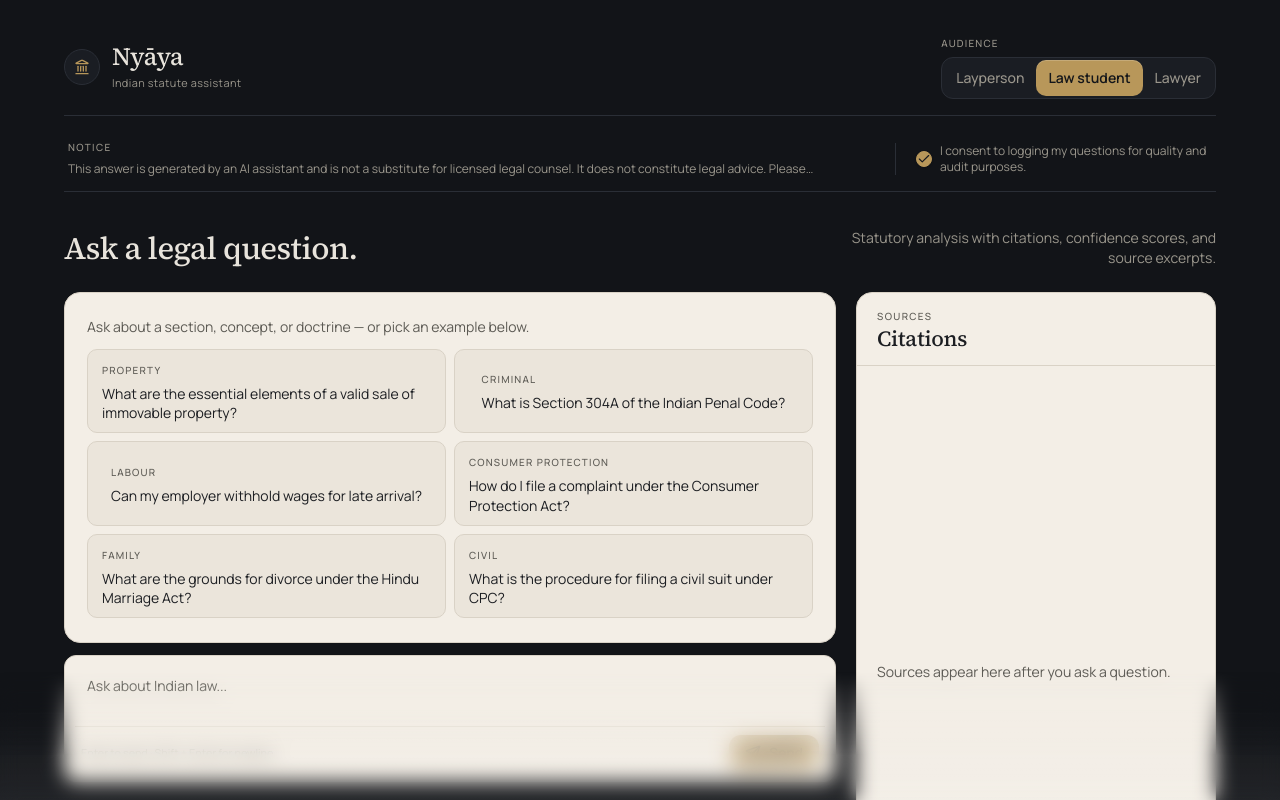
Test: ChatWindow user_type wiring › includes the selected user_type in the outgoing payload
Type "Explain Section 302 IPC." into the text box named "Your message" at (450, 694), box [75,666,825,722]
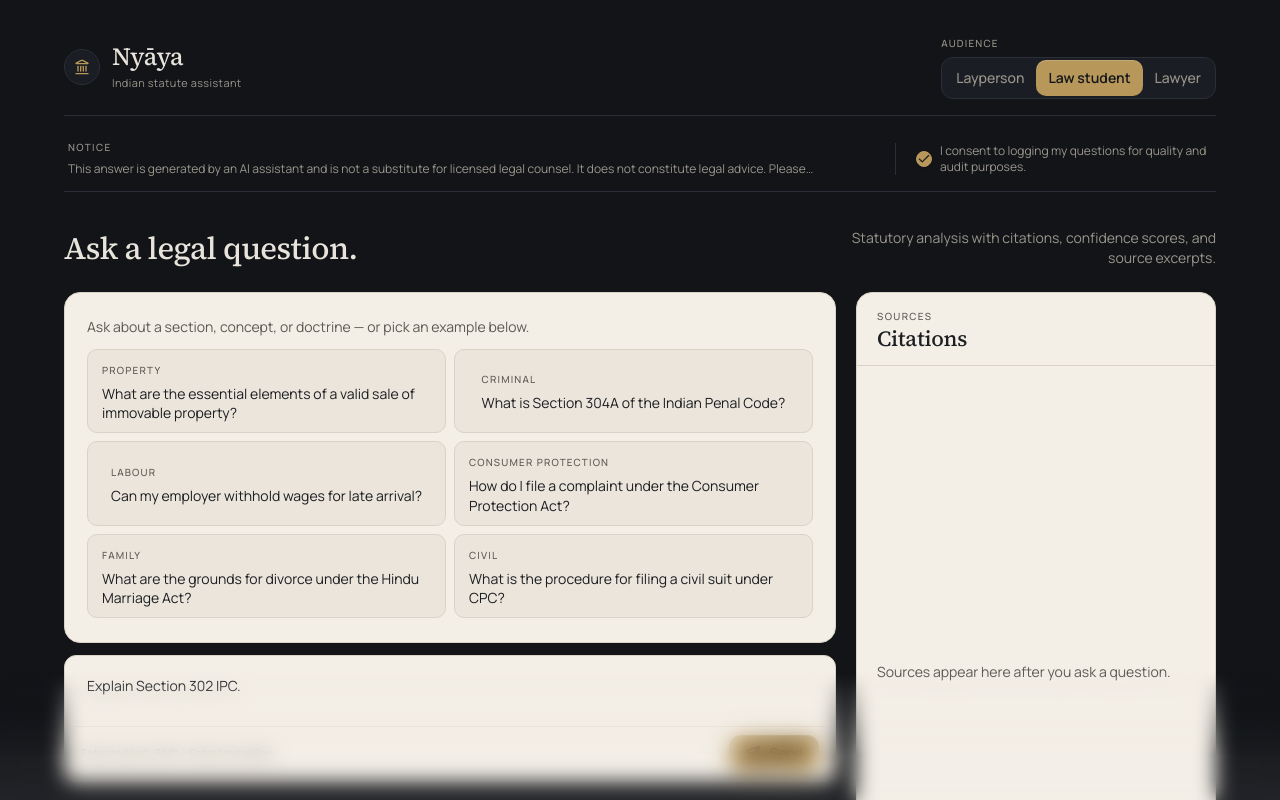
Click the button "Send" at (774, 753), box [729,735,819,771]
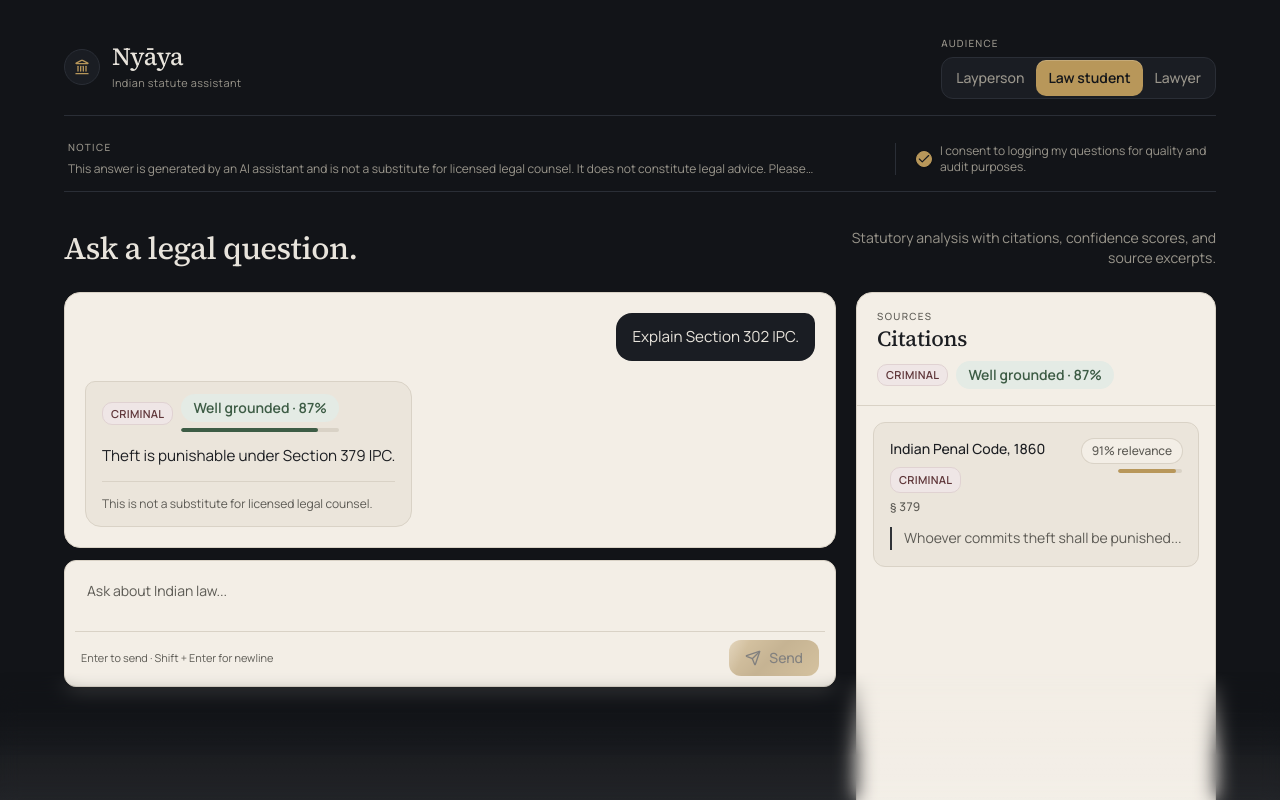
Now the text "Explain Section 302 IPC." is shown, box [632,325,799,350]
